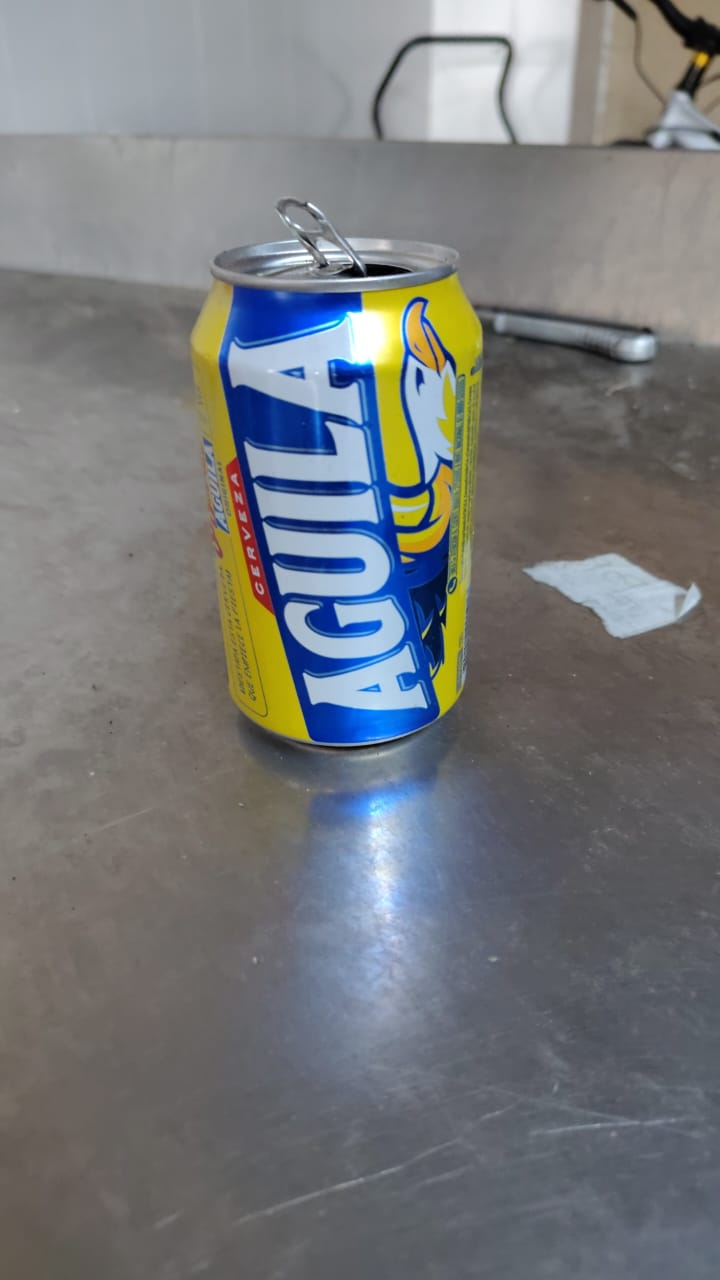Metal: (189, 236, 486, 750)
